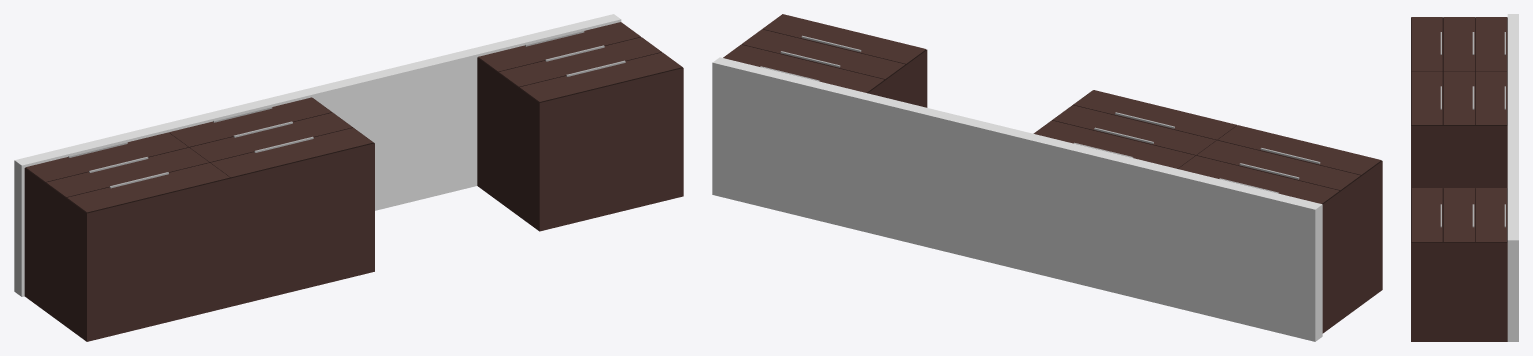
Rendered from bench-desk.glb.
3 views of the same model, side by side, from view 1: azimuth 30°, elevation 25°; view 2: azimuth 150°, elevation 25°; view 3: azimuth 270°, elevation 25° (orthographic). The views are drawn at different scales.
Visible parts, largest first — view 1: office_table_022; view 2: office_table_022; view 3: office_table_022.
Part boxes in pixels (<box>): office_table_022: <box>14,14,683,341</box>; office_table_022: <box>712,14,1382,341</box>; office_table_022: <box>1411,14,1518,341</box>.
Size of the model in its own units: 3.68 by 0.7721 by 0.741.
1 material, 1 textured.
